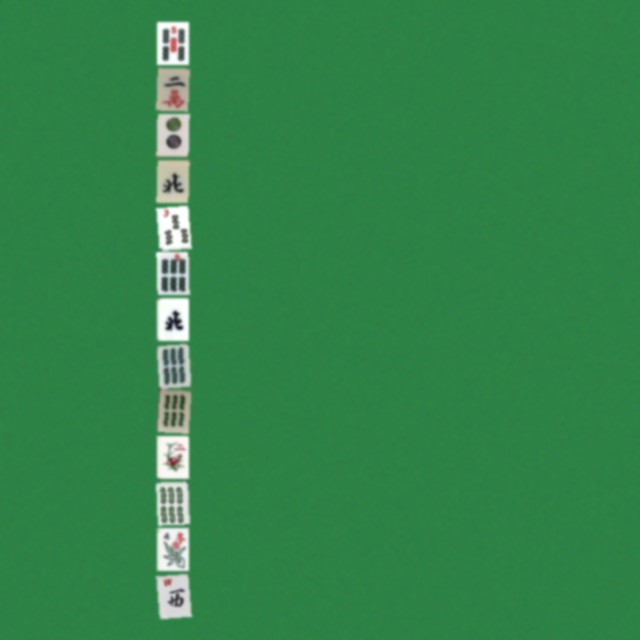tile: (156, 21, 188, 64), (156, 67, 188, 110), (156, 113, 188, 156), (156, 159, 188, 202), (156, 205, 188, 248), (156, 251, 188, 294), (156, 297, 188, 340), (156, 343, 188, 386), (156, 389, 188, 432), (156, 435, 188, 478), (156, 481, 188, 524), (156, 527, 188, 570), (156, 573, 188, 616)
